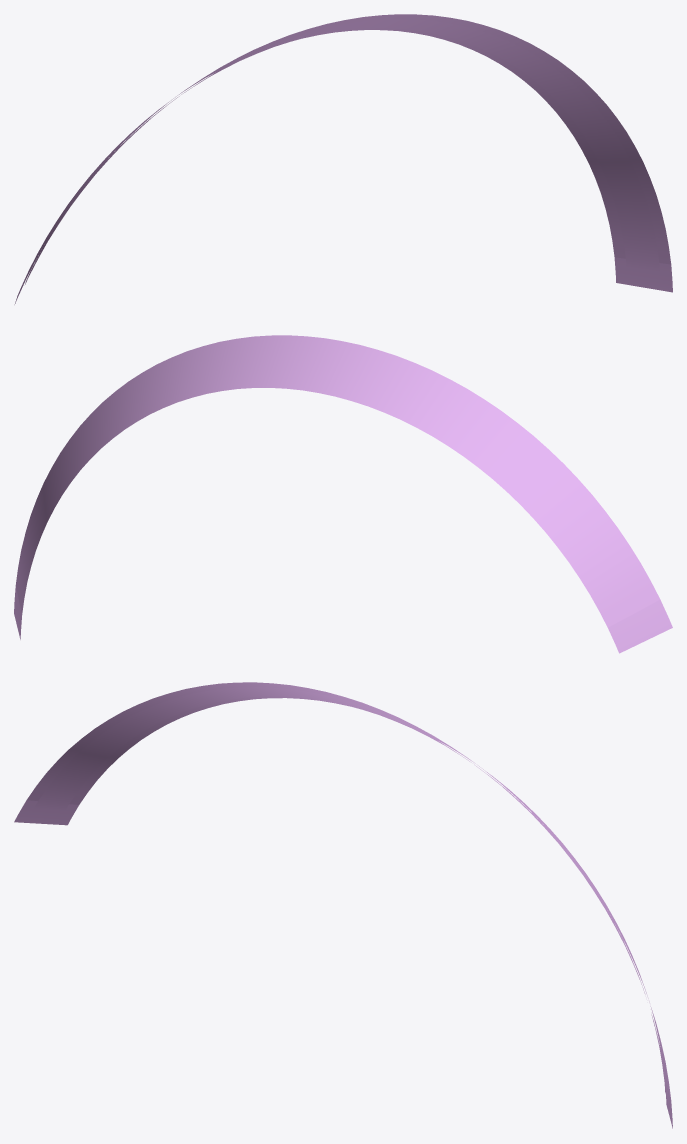
The model's file is Mesh_Note_26.fbx.
3 views of the same model, one above another, from view 1: azimuth 30°, elevation 25°; view 2: azimuth 150°, elevation 25°; view 3: azimuth 330°, elevation 25° (orthographic).
Parts seen in each view (by area): view 1: Mesh_Note_26; view 2: Mesh_Note_26; view 3: Mesh_Note_26.
Boxes of the visible parts, x1=… form: Mesh_Note_26: x1=14, y1=14, x2=672, y2=304; Mesh_Note_26: x1=14, y1=335, x2=672, y2=653; Mesh_Note_26: x1=14, y1=682, x2=672, y2=1128.
Size of the model in its own units: 3.38 by 1.74 by 0.2235.
